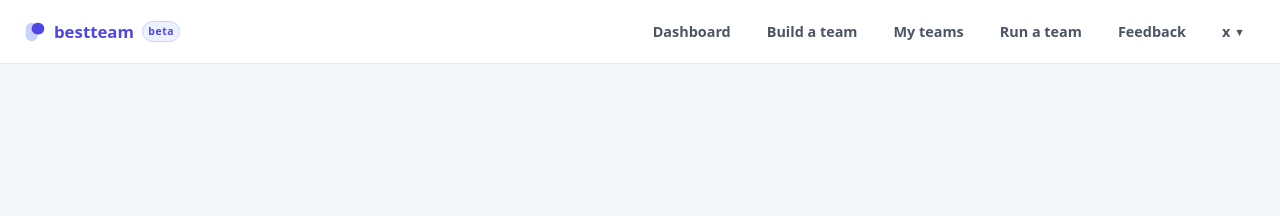
Test: Layout account menu › reveals all three once opened
Click the button named "Account": coordinates (1232, 32) [1208,14,1256,49]
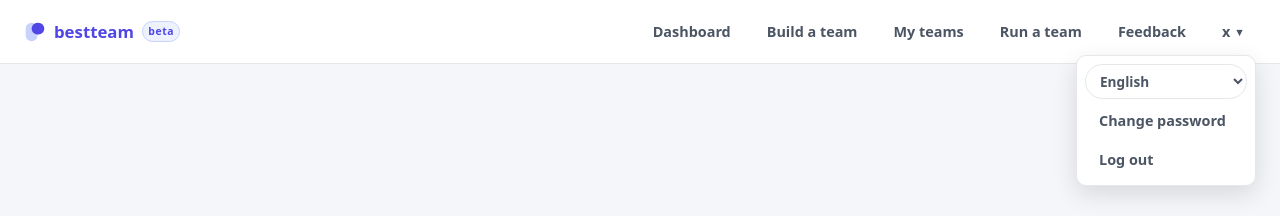
Now the button "Change password" is shown, box [1085,103,1247,138]
Now the button "Log out" is shown, box [1085,142,1247,177]
Now the dropdown named "Language" is shown, box [1085,64,1247,99]
